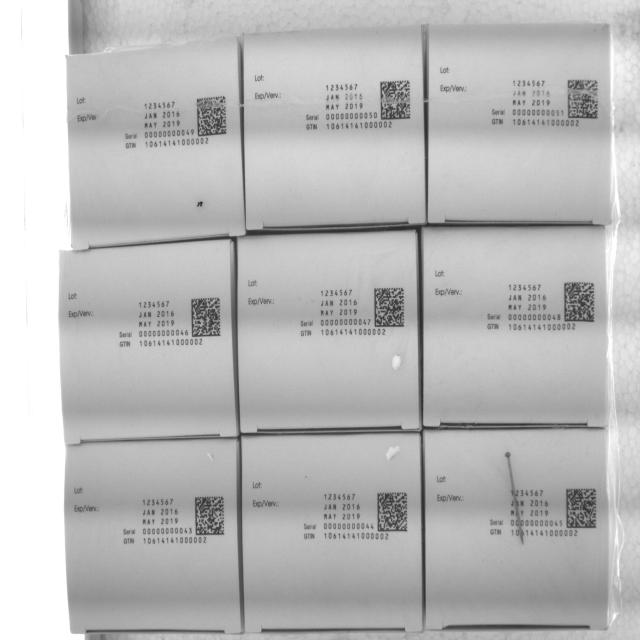datamatrix: (567, 78, 601, 122), (563, 282, 597, 326), (194, 95, 228, 138), (381, 79, 415, 122), (190, 296, 224, 339), (566, 488, 600, 531), (194, 495, 227, 539), (373, 286, 406, 329), (377, 491, 410, 534)
